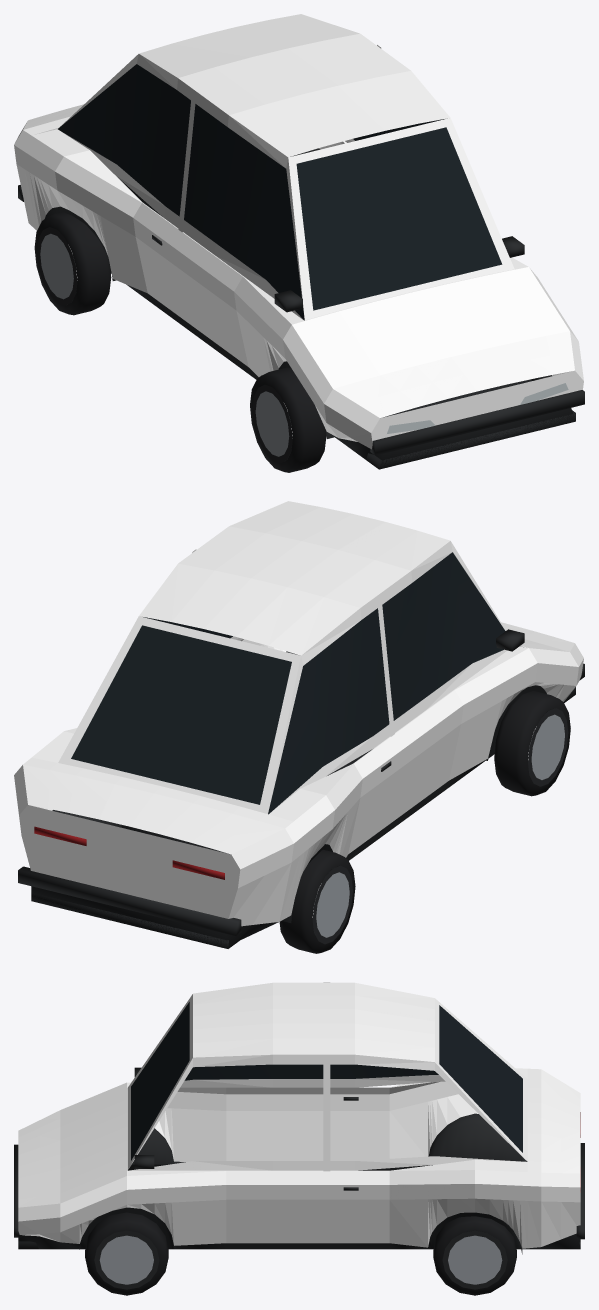
Rendered from feldhaus_pevidem.glb.
3 renders of one model, top to bottom at view 1: azimuth 30°, elevation 25°; view 2: azimuth 150°, elevation 25°; view 3: azimuth 270°, elevation 25°, orthographic. The views are drawn at different scales.
Visible parts, largest first — view 1: Body_Paint, Body_Details, Mount_RearLeft_Wheel_Details, Mount_FrontLeft_Wheel_Details; view 2: Body_Paint, Body_Details, Mount_FrontLeft_Wheel_Details, Mount_RearLeft_Wheel_Details; view 3: Body_Paint, Body_Details, Mount_FrontRight_Wheel_Details, Mount_RearRight_Wheel_Details.
Boxes of the visible parts, left/top/right/bottom form: Body_Paint: left=14, top=14, right=583, bottom=449; Body_Details: left=18, top=64, right=584, bottom=469; Mount_RearLeft_Wheel_Details: left=34, top=212, right=111, bottom=315; Mount_FrontLeft_Wheel_Details: left=250, top=367, right=326, bottom=472; Body_Paint: left=14, top=501, right=583, bottom=926; Body_Details: left=18, top=552, right=584, bottom=948; Mount_FrontLeft_Wheel_Details: left=494, top=691, right=570, bottom=796; Mount_RearLeft_Wheel_Details: left=279, top=849, right=355, bottom=953; Body_Paint: left=18, top=982, right=580, bottom=1248; Body_Details: left=14, top=1002, right=584, bottom=1254; Mount_FrontRight_Wheel_Details: left=85, top=1212, right=168, bottom=1295; Mount_RearRight_Wheel_Details: left=433, top=1216, right=516, bottom=1295.
Bounding box in the file's own units: 1.72 × 1.65 × 3.76.
2 materials, 1 textured.
